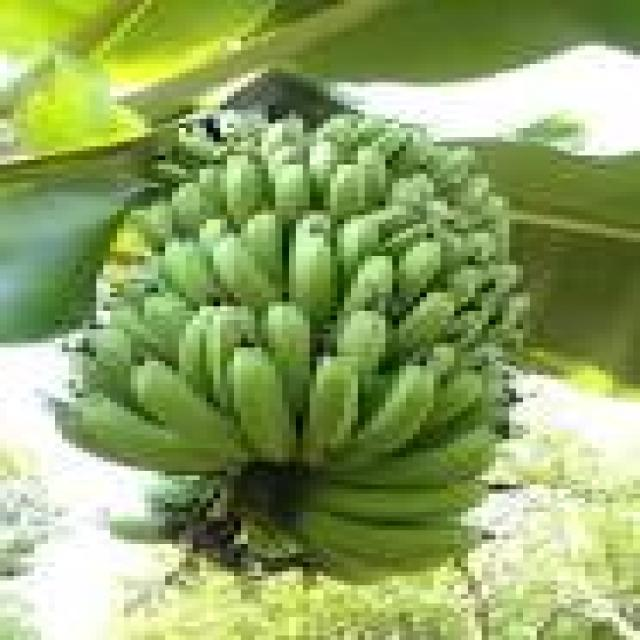banana: (56, 394, 233, 470), (131, 362, 247, 461), (331, 426, 502, 489), (296, 508, 481, 566), (345, 366, 433, 466), (303, 480, 488, 521), (228, 348, 295, 461), (262, 302, 316, 415), (303, 357, 357, 466), (214, 234, 282, 310), (290, 215, 337, 324), (76, 325, 137, 402), (207, 307, 254, 406), (303, 540, 399, 585), (393, 293, 454, 356), (159, 238, 213, 306), (338, 311, 392, 374), (427, 371, 488, 425), (111, 307, 172, 361), (338, 215, 385, 283), (221, 156, 268, 223), (145, 293, 192, 356), (241, 211, 282, 283), (179, 307, 213, 393), (345, 256, 392, 315), (241, 517, 302, 562), (400, 238, 440, 306), (269, 160, 309, 219), (90, 325, 137, 374), (324, 165, 364, 219), (393, 128, 440, 173), (104, 512, 172, 543), (131, 202, 178, 246), (173, 183, 213, 233), (358, 147, 392, 205), (372, 202, 426, 237), (310, 142, 344, 196), (386, 174, 433, 210), (173, 128, 220, 164), (386, 220, 433, 255), (434, 147, 474, 187), (455, 307, 495, 347), (448, 266, 488, 306), (262, 115, 302, 155), (420, 343, 461, 379), (317, 115, 357, 150), (262, 147, 302, 182), (372, 124, 406, 164), (200, 165, 227, 214), (455, 174, 488, 214), (145, 160, 192, 187), (358, 115, 392, 150), (200, 220, 233, 255), (489, 266, 523, 297), (468, 229, 495, 265)
